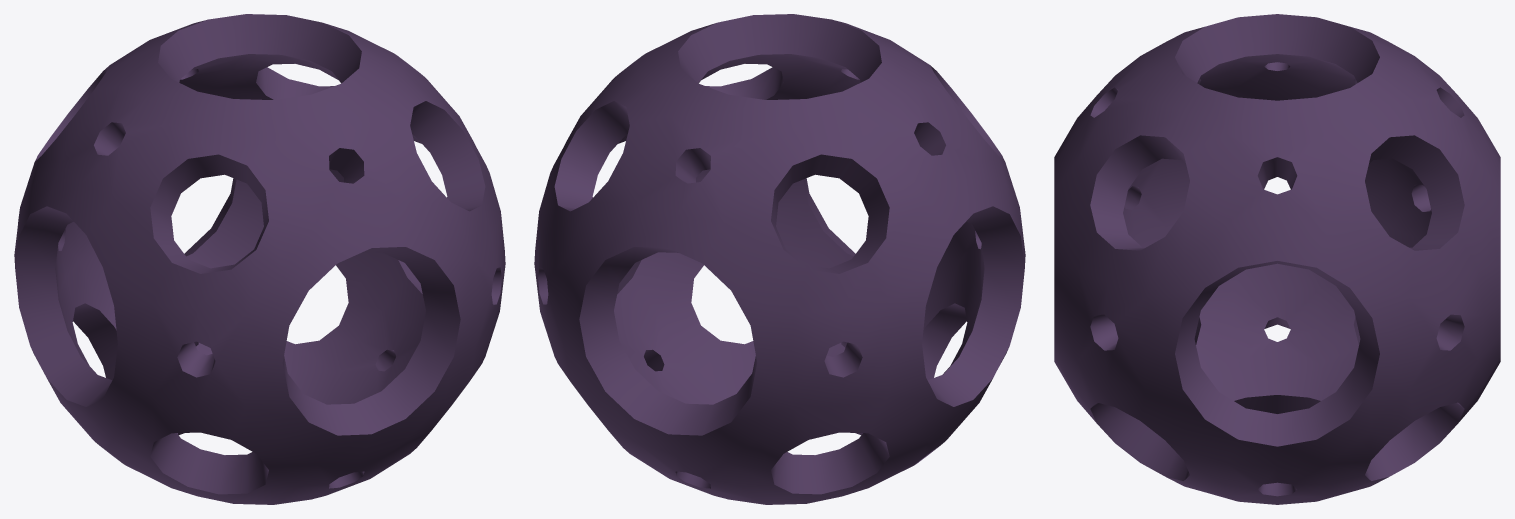
3 renders of one model, left to right at view 1: azimuth 30°, elevation 25°; view 2: azimuth 150°, elevation 25°; view 3: azimuth 270°, elevation 25°, orthographic.
Visible parts, largest first — view 1: Cage_03; view 2: Cage_03; view 3: Cage_03.
Part boxes in pixels (bbox=[...]): Cage_03: bbox=[14, 14, 505, 504]; Cage_03: bbox=[534, 14, 1025, 504]; Cage_03: bbox=[1054, 14, 1500, 504].
Size of the model in its own units: 278 by 278 by 278.
1 material, 1 textured.
